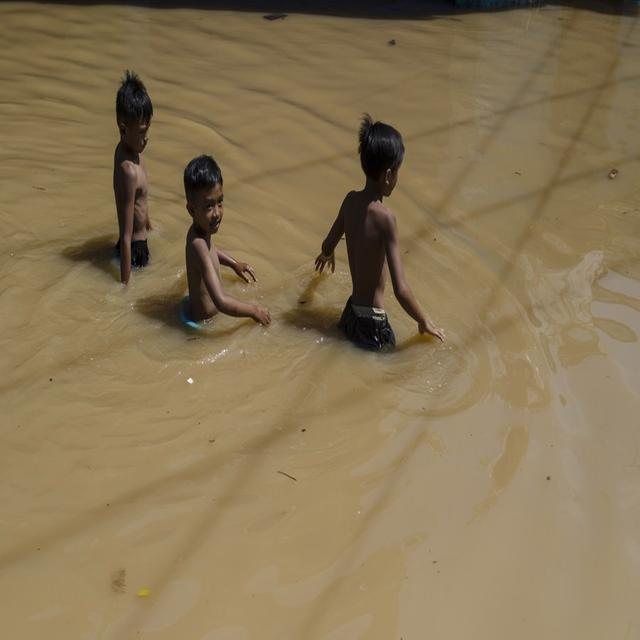Person-RiskLevel2: (311, 110, 461, 362), (76, 78, 174, 291), (169, 153, 281, 332)
